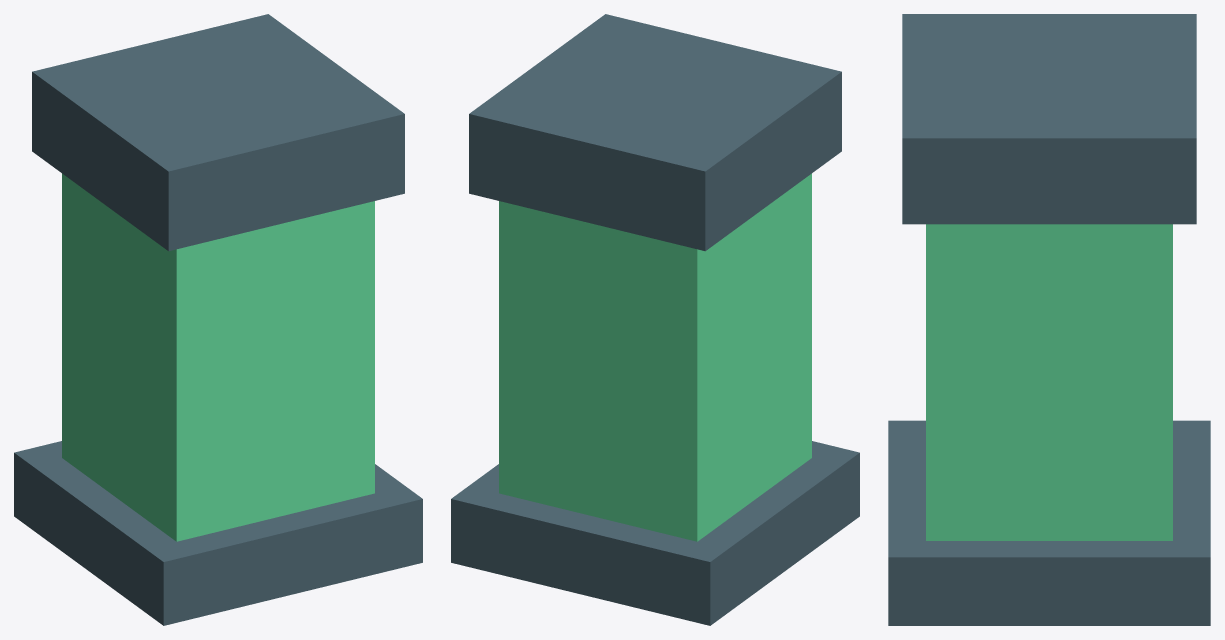
File: energy_cell.glb
The picture shows the model from 3 angles, left to right: view 1: azimuth 30°, elevation 25°; view 2: azimuth 150°, elevation 25°; view 3: azimuth 270°, elevation 25°; orthographic projection. The views are drawn at different scales.
Visible parts, largest first — view 1: EnergyCell; view 2: EnergyCell; view 3: EnergyCell.
Part boxes in pixels (box(x1,y1,x2,y2)): EnergyCell: box(14, 14, 422, 625); EnergyCell: box(451, 14, 859, 625); EnergyCell: box(888, 14, 1210, 625).
Size of the model in its own units: 0.34 by 0.56 by 0.34.
